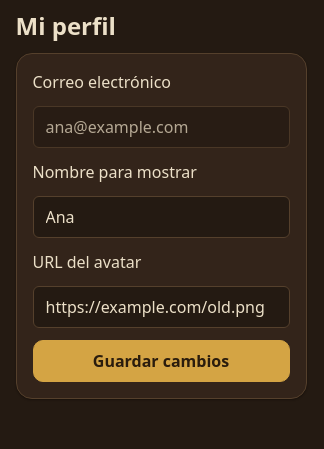
Scenario: ProfilePage › saves through the port, updates the session and confirms
This screenshot has width=324, height=449.
Replace the text in the field labelled "Nombre para mostrar" with "Ana G." at (161, 217), box 32,196 -> 290,238
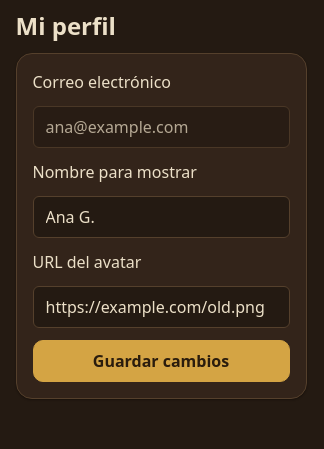
Replace the text in the field labelled "URL del avatar" with "https://example.com/new.png" at (161, 307), box 32,286 -> 290,328
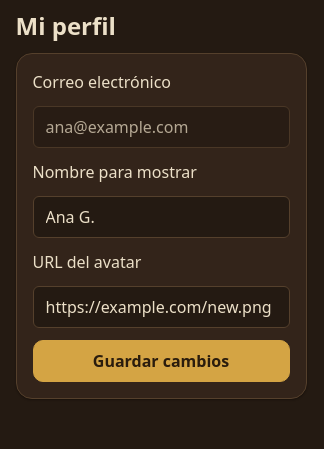
Click the button "Guardar cambios" at (161, 361), box 32,340 -> 290,382
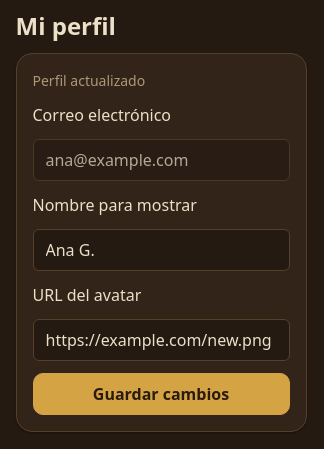
expect the text "Perfil actualizado" is shown: met, box 32,71 -> 145,90
